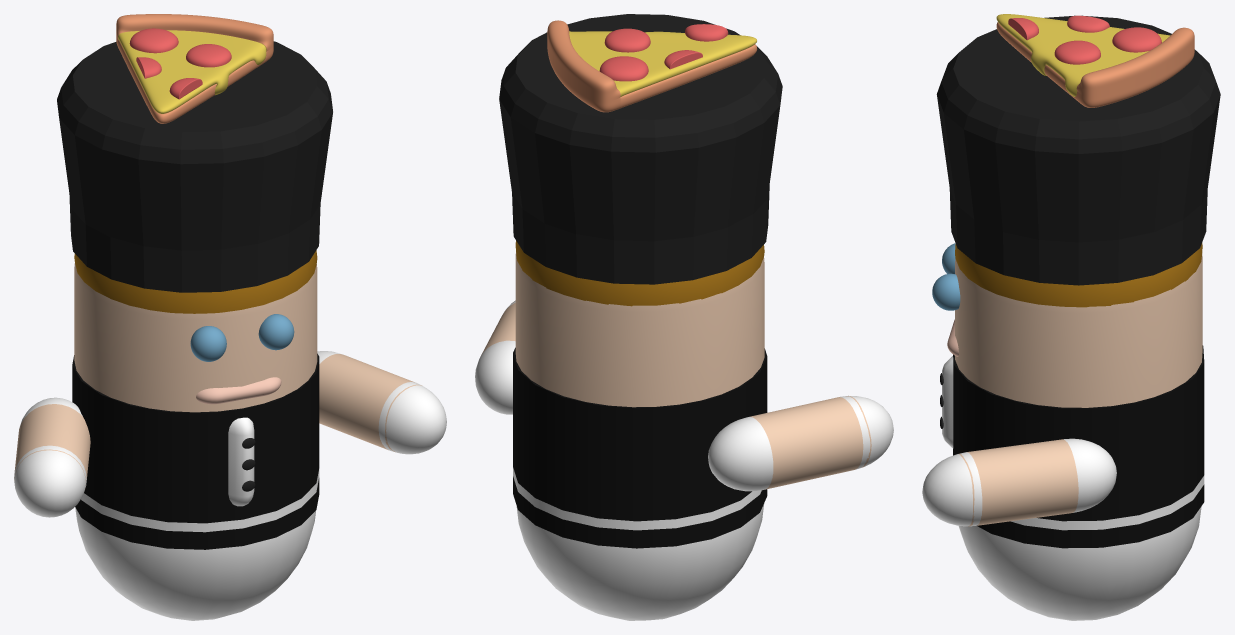
File: pizzachef2.fbx
3 views of the same model, side by side, from view 1: azimuth 30°, elevation 25°; view 2: azimuth 150°, elevation 25°; view 3: azimuth 270°, elevation 25° (orthographic). The views are drawn at different scales.
Visible parts, largest first — view 1: ChefHat, ChefShirt.002, Body.002, Pants.002, RightArm.002, Cheese, Hair.002, BottomStripe.002, Base, LeftGlove.002, RIghtGlove.002, LeftArm.002 (+7 smaller); view 2: ChefHat, ChefShirt.002, Body.002, Pants.002, LeftArm.002, Hair.002, Base, BottomStripe.002, Cheese, LeftSleeve.002, TopStripe.002, RightSleeve.002 (+5 smaller); view 3: ChefHat, Body.002, ChefShirt.002, Pants.002, RightArm.002, Hair.002, Base, Cheese, BottomStripe.002, RIghtGlove.002, RightSleeve.002, TopStripe.002 (+6 smaller).
Boxes of the visible parts, <box> form: ChefHat: <box>57,41,332,292</box>; ChefShirt.002: <box>72,353,319,523</box>; Body.002: <box>74,263,317,412</box>; Pants.002: <box>75,507,316,620</box>; RightArm.002: <box>319,354,422,452</box>; Cheese: <box>118,30,266,113</box>; Hair.002: <box>74,250,317,313</box>; BottomStripe.002: <box>75,478,319,549</box>; Base: <box>116,14,273,123</box>; LeftGlove.002: <box>14,445,86,517</box>; RIghtGlove.002: <box>378,382,446,454</box>; LeftArm.002: <box>14,404,90,488</box>; ChefHat: <box>499,14,782,284</box>; ChefShirt.002: <box>513,347,767,521</box>; Body.002: <box>515,252,764,407</box>; Pants.002: <box>516,503,764,620</box>; LeftArm.002: <box>750,396,871,489</box>; Hair.002: <box>515,240,764,306</box>; Base: <box>547,20,757,112</box>; BottomStripe.002: <box>513,476,767,548</box>; Cheese: <box>569,31,756,96</box>; LeftSleeve.002: <box>708,417,773,491</box>; TopStripe.002: <box>513,467,761,530</box>; RightSleeve.002: <box>475,340,515,414</box>; ChefHat: <box>936,15,1220,285</box>; Body.002: <box>955,253,1202,407</box>; ChefShirt.002: <box>953,345,1204,521</box>; Pants.002: <box>958,506,1201,620</box>; RightArm.002: <box>959,439,1078,526</box>; Hair.002: <box>955,243,1202,307</box>; Base: <box>996,22,1194,107</box>; Cheese: <box>996,14,1170,96</box>; BottomStripe.002: <box>977,484,1204,548</box>; RIghtGlove.002: <box>922,452,982,526</box>; RightSleeve.002: <box>1063,438,1116,512</box>; TopStripe.002: <box>1011,475,1204,530</box>.
Size of the model in its own units: 188 by 254 by 120.
